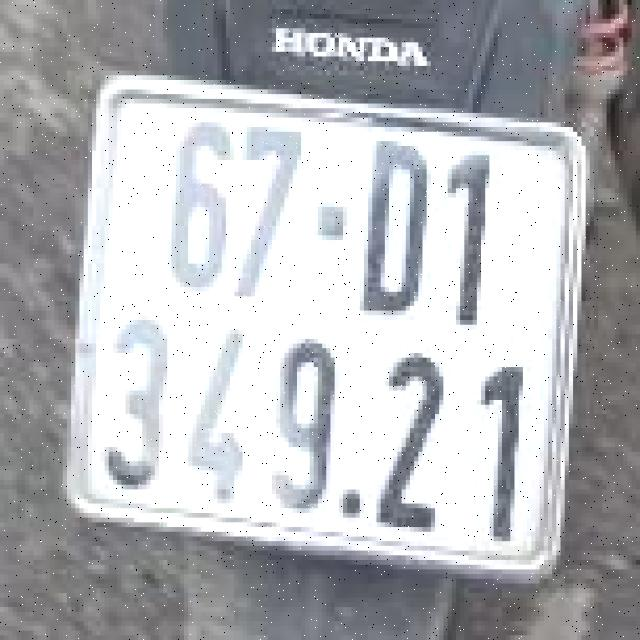1: (475, 351, 525, 548), (444, 144, 494, 332)
2: (378, 344, 449, 541)
3: (100, 308, 172, 496)
4: (186, 311, 253, 513)
6: (159, 113, 234, 296)
7: (236, 117, 308, 310)
9: (257, 308, 337, 516)
D: (358, 134, 433, 322)
